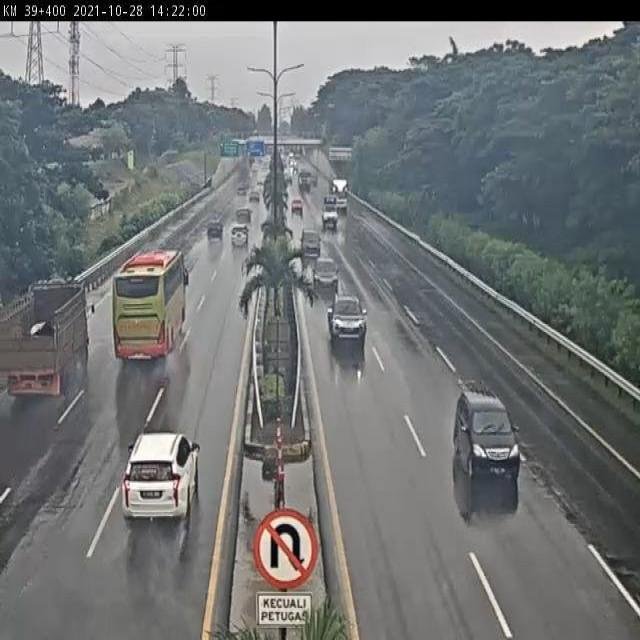big bus: (105, 244, 189, 359)
car: (120, 426, 203, 526), (453, 388, 519, 481), (326, 290, 369, 350), (312, 257, 339, 295), (204, 212, 224, 243), (229, 227, 250, 248), (301, 228, 322, 249), (289, 194, 304, 218), (233, 207, 253, 225)
small truck: (0, 281, 98, 403), (321, 196, 339, 229)
